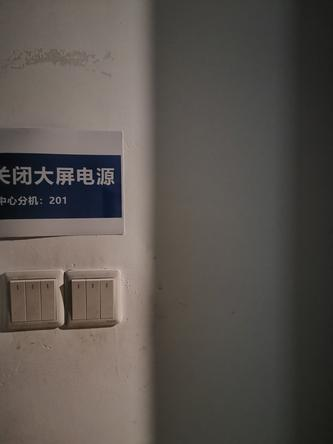switch: (7, 277, 29, 325), (37, 277, 59, 323), (96, 277, 118, 321), (68, 276, 89, 322), (83, 275, 104, 321), (23, 278, 44, 322)
